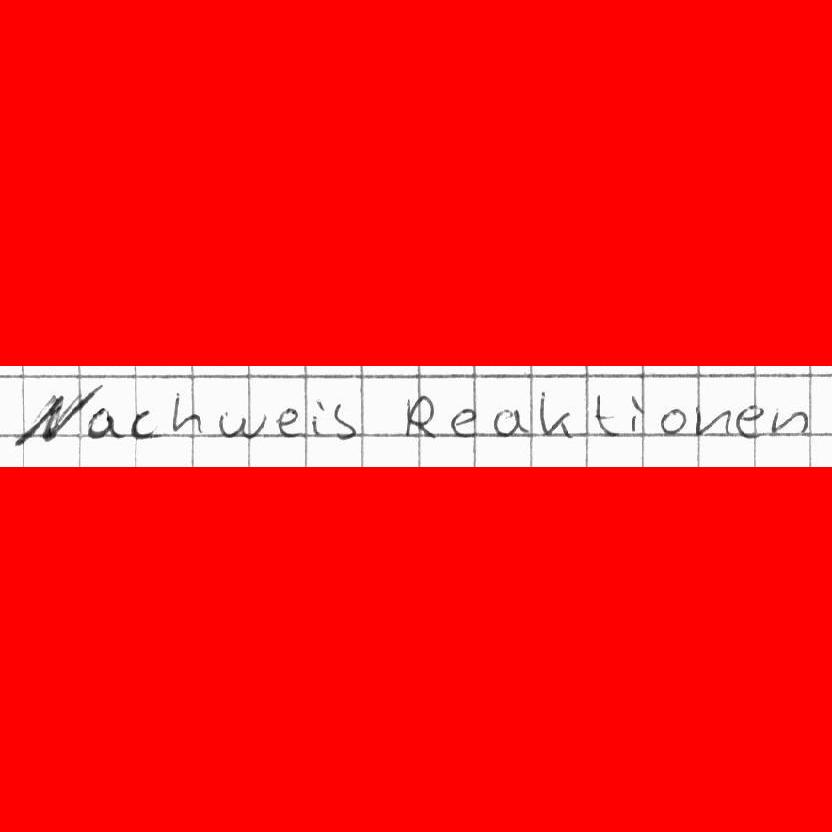Char: (13, 382, 90, 449), (402, 389, 437, 438), (538, 389, 573, 437), (222, 406, 266, 442), (170, 388, 202, 434), (591, 389, 620, 437), (694, 403, 731, 438), (86, 406, 121, 441), (329, 399, 357, 440), (770, 406, 807, 437), (492, 406, 525, 437), (736, 402, 763, 439), (129, 405, 155, 441), (659, 407, 686, 437), (449, 406, 475, 437), (627, 391, 645, 434), (275, 406, 300, 435), (308, 397, 325, 437)
